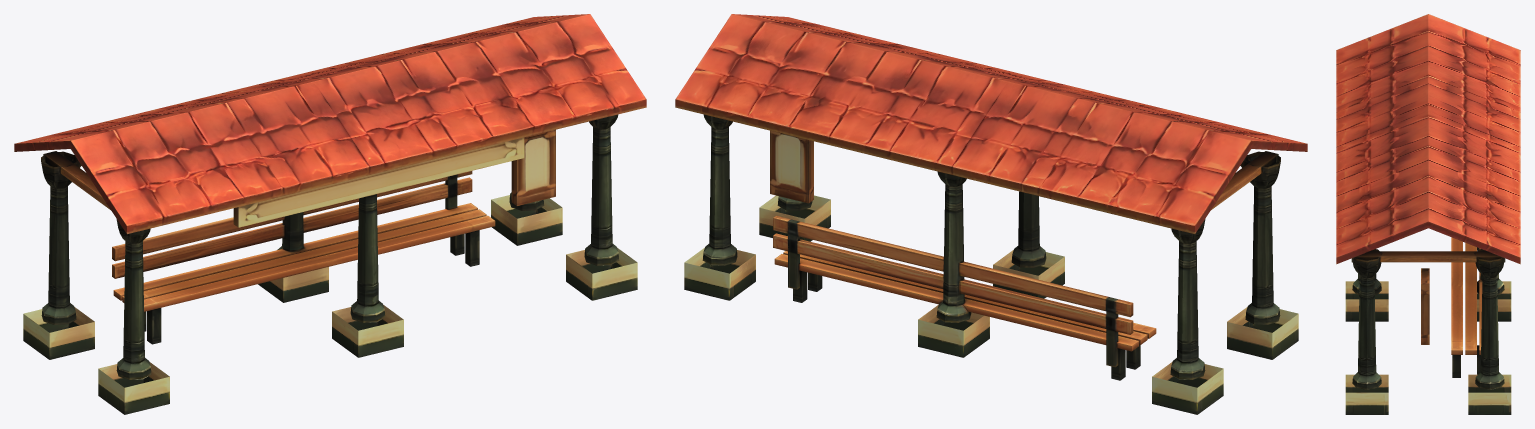
The model's file is LM_RedCarStop.fbx.
3 renders of one model, left to right at view 1: azimuth 30°, elevation 25°; view 2: azimuth 150°, elevation 25°; view 3: azimuth 270°, elevation 25°, orthographic. The views are drawn at different scales.
Visible parts, largest first — view 1: LM_RedCarStop; view 2: LM_RedCarStop; view 3: LM_RedCarStop.
Part boxes in pixels (x1,y1,x2,y2): LM_RedCarStop: (14,14,646,414); LM_RedCarStop: (675,14,1307,414); LM_RedCarStop: (1336,14,1520,414).
Bounding box in the file's own units: 8 × 3 × 3.5.
1 material, 1 textured.
